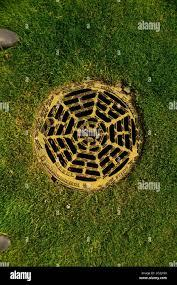open drainage-not overflowing-: (34, 87, 144, 188)
